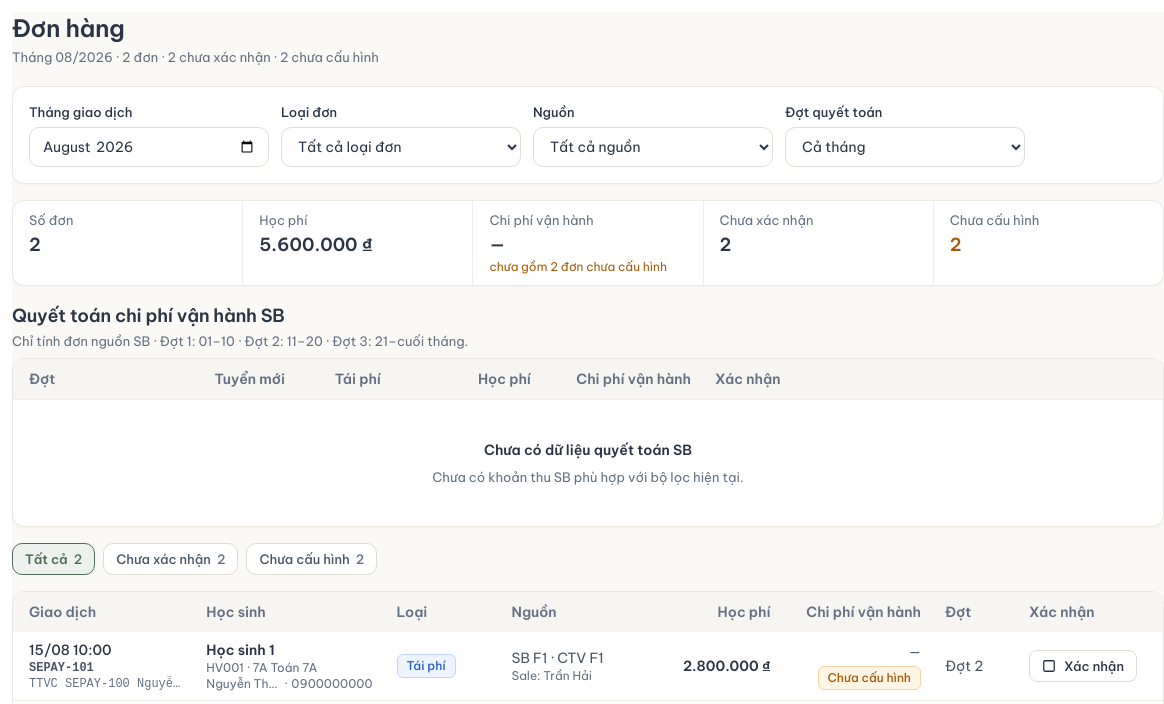
Test: Finance Orders list (step 14c) › clears a failed tick's notes on a chip change and on a filter write
Click the button with aria-label "Xác nhận đơn SEPAY-101": (1083, 666) [1029, 650, 1137, 682]
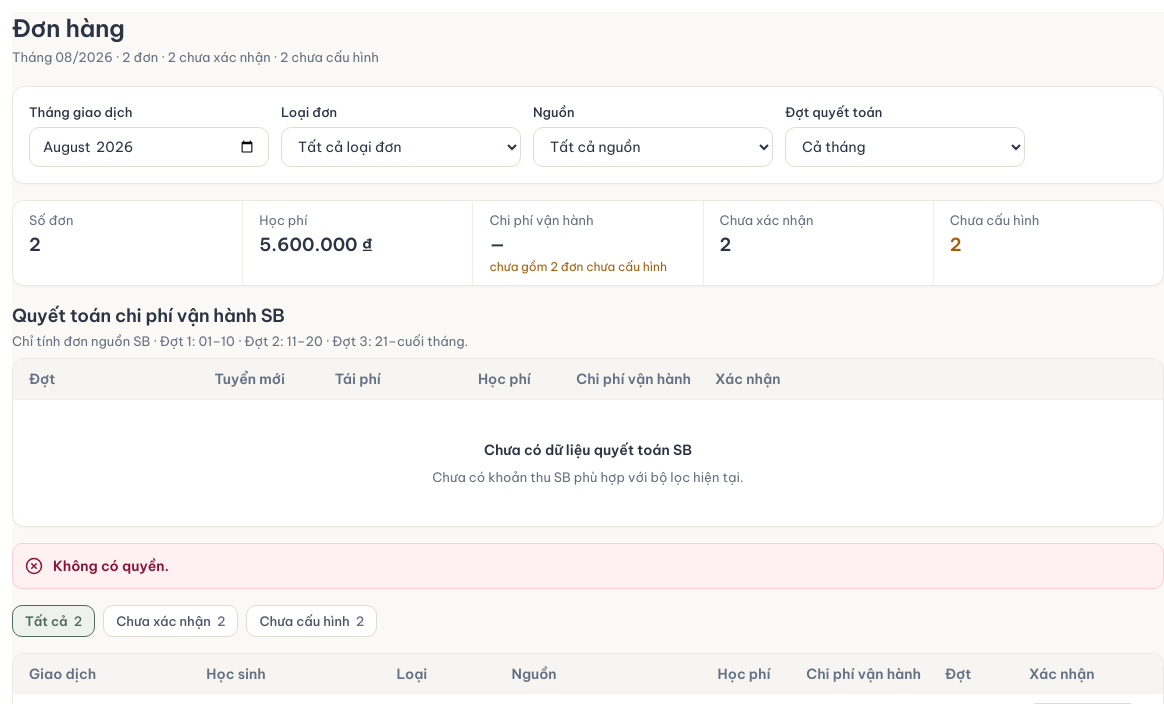
Now the message "Không có quyền." is shown, box [12, 543, 1163, 589]
Click the button named "Chưa xác nhận2": (171, 621) [103, 605, 238, 637]
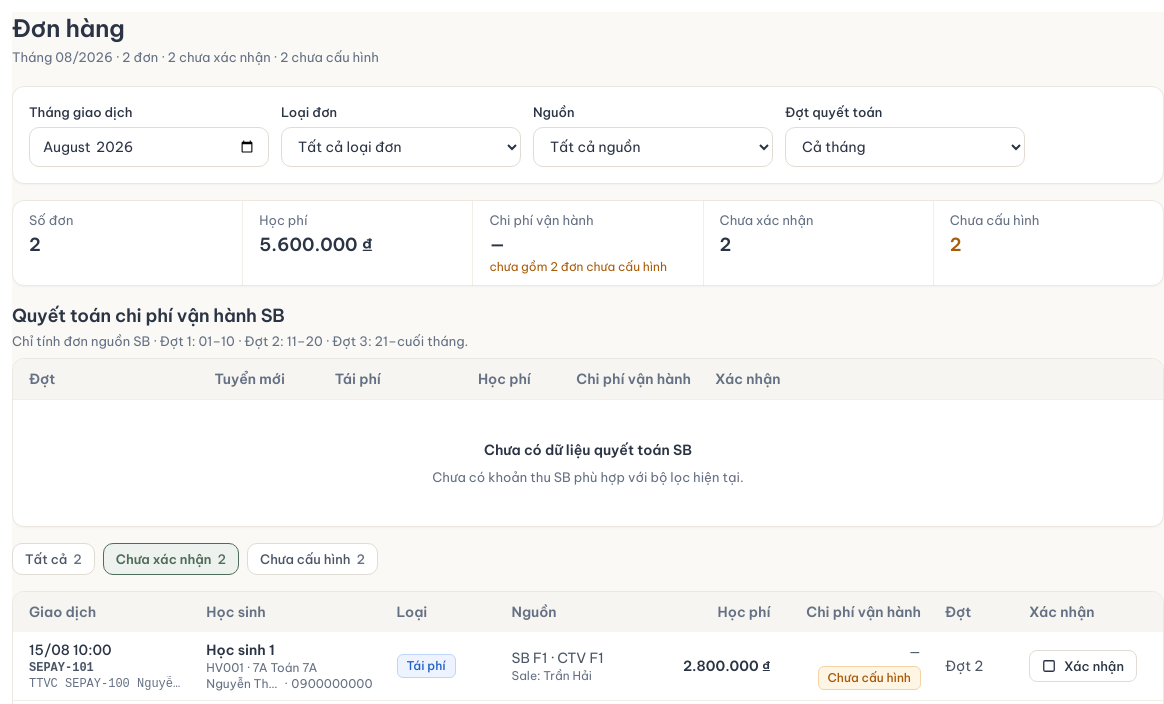
Now the message "Không có quyền." is gone
Click the button with aria-label "Xác nhận đơn SEPAY-101": (1083, 666) [1029, 650, 1137, 682]
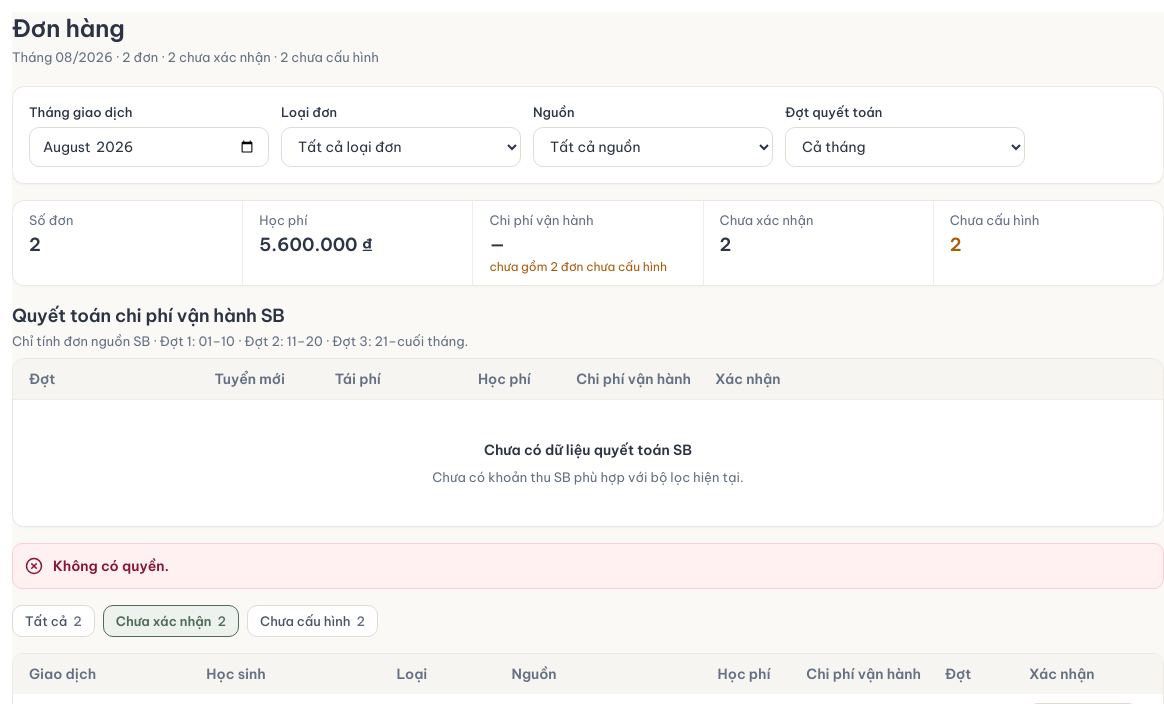
Now the message "Không có quyền." is shown, box [12, 543, 1163, 589]
Select "SB" in the dropdown labelled "Nguồn": (653, 147) [533, 127, 773, 167]
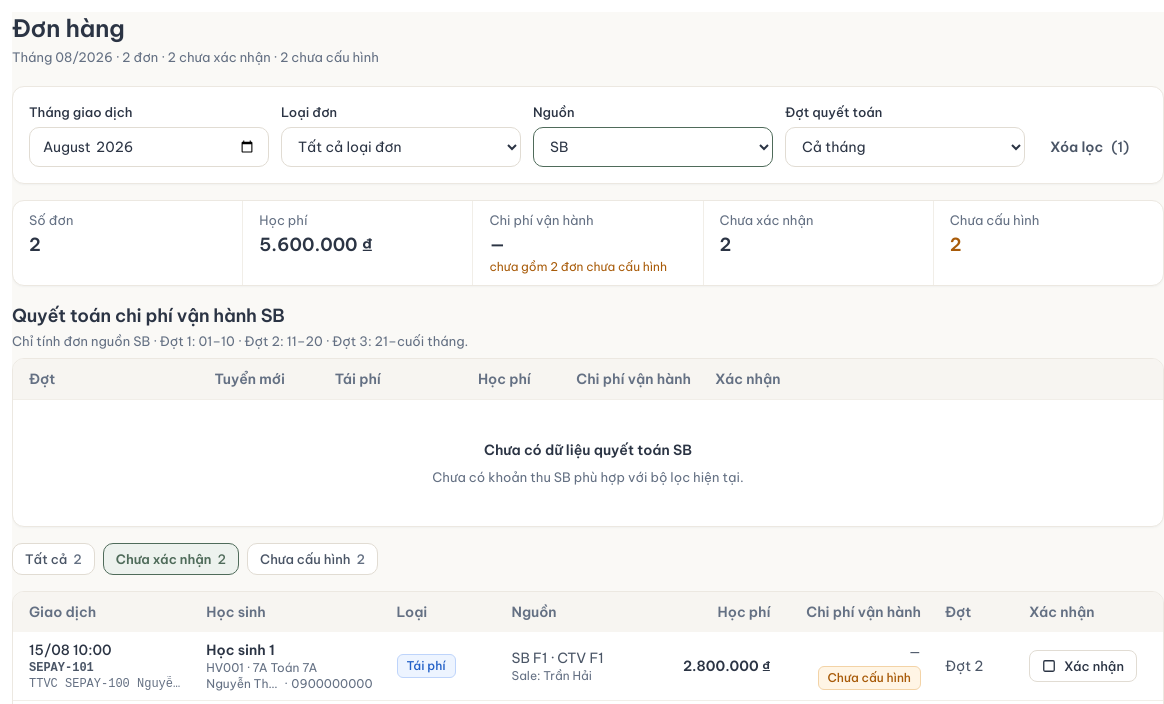
Now the message "Không có quyền." is gone
